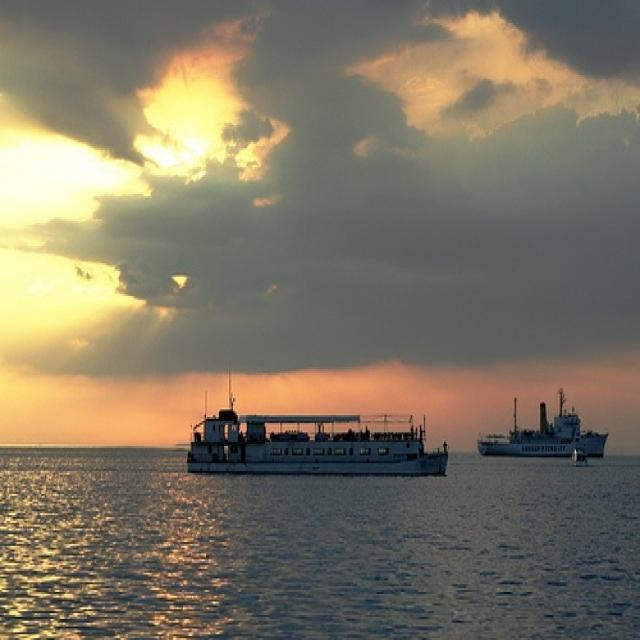boat: (183, 367, 451, 479), (478, 387, 610, 458)
